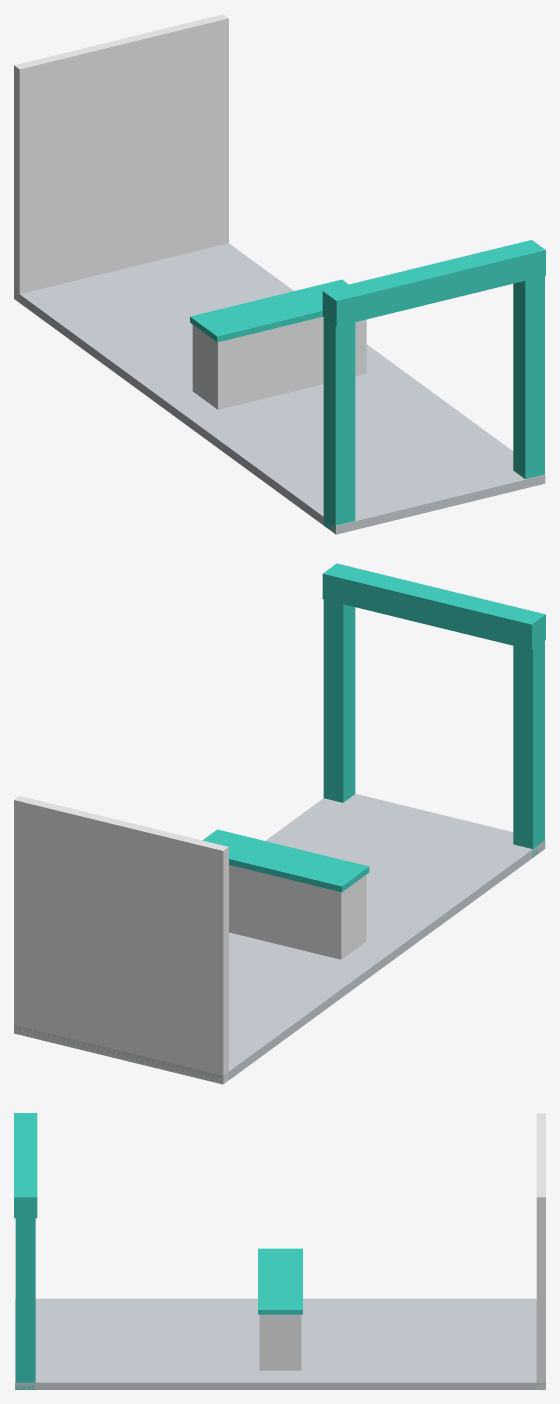
3 views of the same model, one above another, from view 1: azimuth 30°, elevation 25°; view 2: azimuth 150°, elevation 25°; view 3: azimuth 270°, elevation 25° (orthographic). The views are drawn at different scales.
Parts seen in each view (by area): view 1: Exhibition Booth Concept; view 2: Exhibition Booth Concept; view 3: Exhibition Booth Concept.
Boxes of the visible parts, box(x1,y1,x2,y2) form: Exhibition Booth Concept: box(14, 14, 545, 534); Exhibition Booth Concept: box(14, 563, 545, 1084); Exhibition Booth Concept: box(14, 1113, 545, 1389).
Size of the model in its own units: 3 by 3.2 by 8.01.
